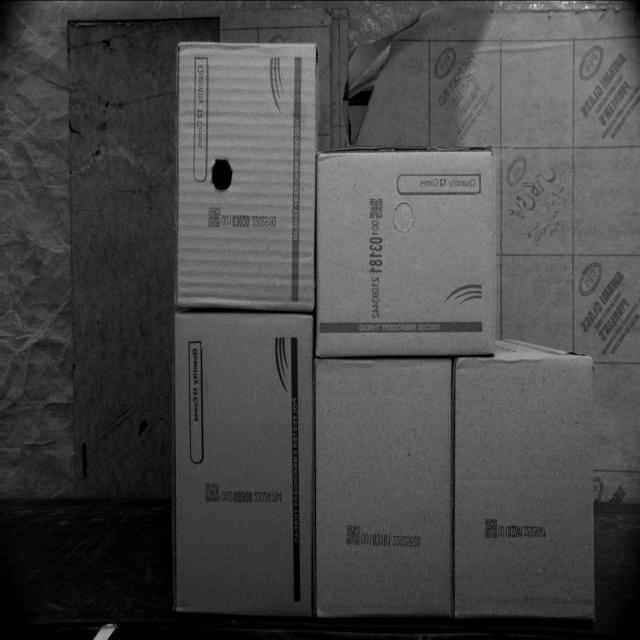cardboxes: (170, 314, 312, 615), (176, 41, 315, 308), (314, 151, 495, 355), (453, 357, 593, 620), (314, 356, 450, 614)
